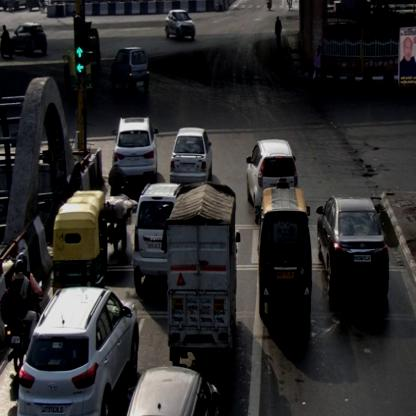bus: (2, 0, 32, 10)
car: (16, 284, 138, 416), (316, 196, 390, 303), (259, 186, 310, 326), (134, 183, 182, 296), (124, 369, 224, 415), (246, 138, 296, 224), (114, 114, 160, 184), (171, 126, 214, 184), (110, 45, 150, 93), (10, 24, 48, 58), (165, 10, 196, 42)
motorcycle: (6, 252, 43, 378), (106, 160, 130, 250), (0, 21, 14, 57), (264, 0, 273, 12), (286, 0, 293, 12)
truck: (170, 184, 242, 368)
